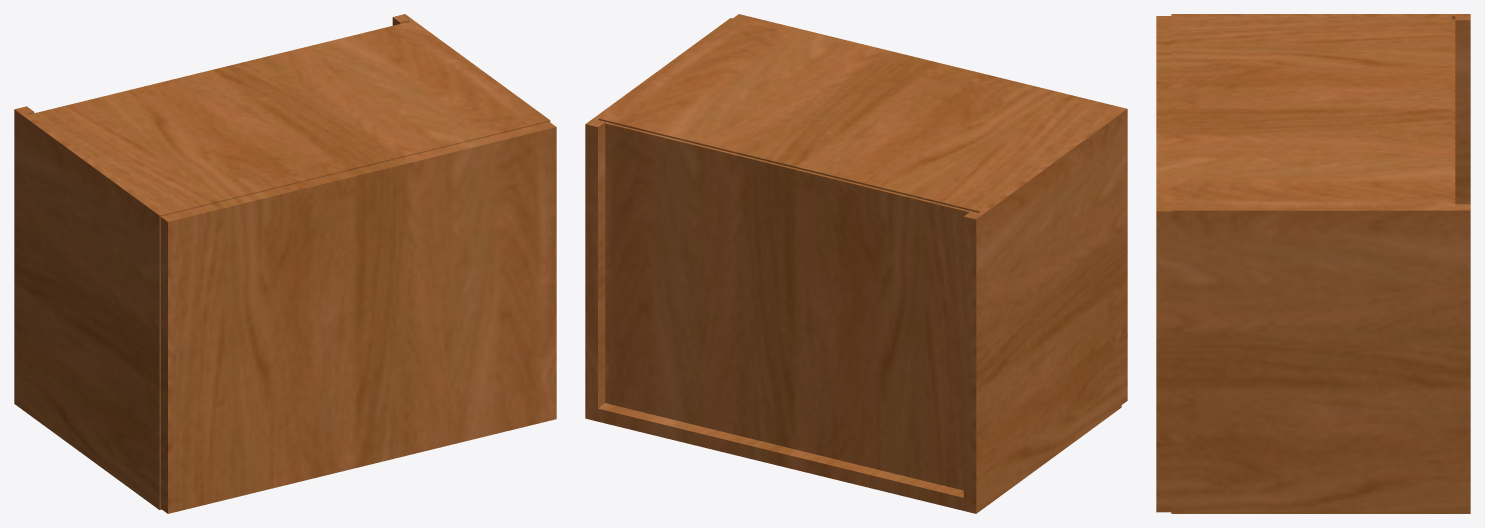
3 views of the same model, side by side, from view 1: azimuth 30°, elevation 25°; view 2: azimuth 150°, elevation 25°; view 3: azimuth 270°, elevation 25° (orthographic). The views are drawn at different scales.
Visible parts, largest first — view 1: ШН36-50; view 2: ШН36-50; view 3: ШН36-50.
Boxes of the visible parts, bbox=[...] form: ШН36-50: bbox=[14, 14, 556, 513]; ШН36-50: bbox=[585, 14, 1127, 513]; ШН36-50: bbox=[1156, 14, 1470, 513].
Size of the model in its own units: 19.16 by 13.8 by 12.95.
4 materials, 4 textured.
